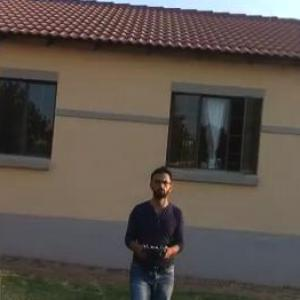follow: (120, 161, 187, 299)
